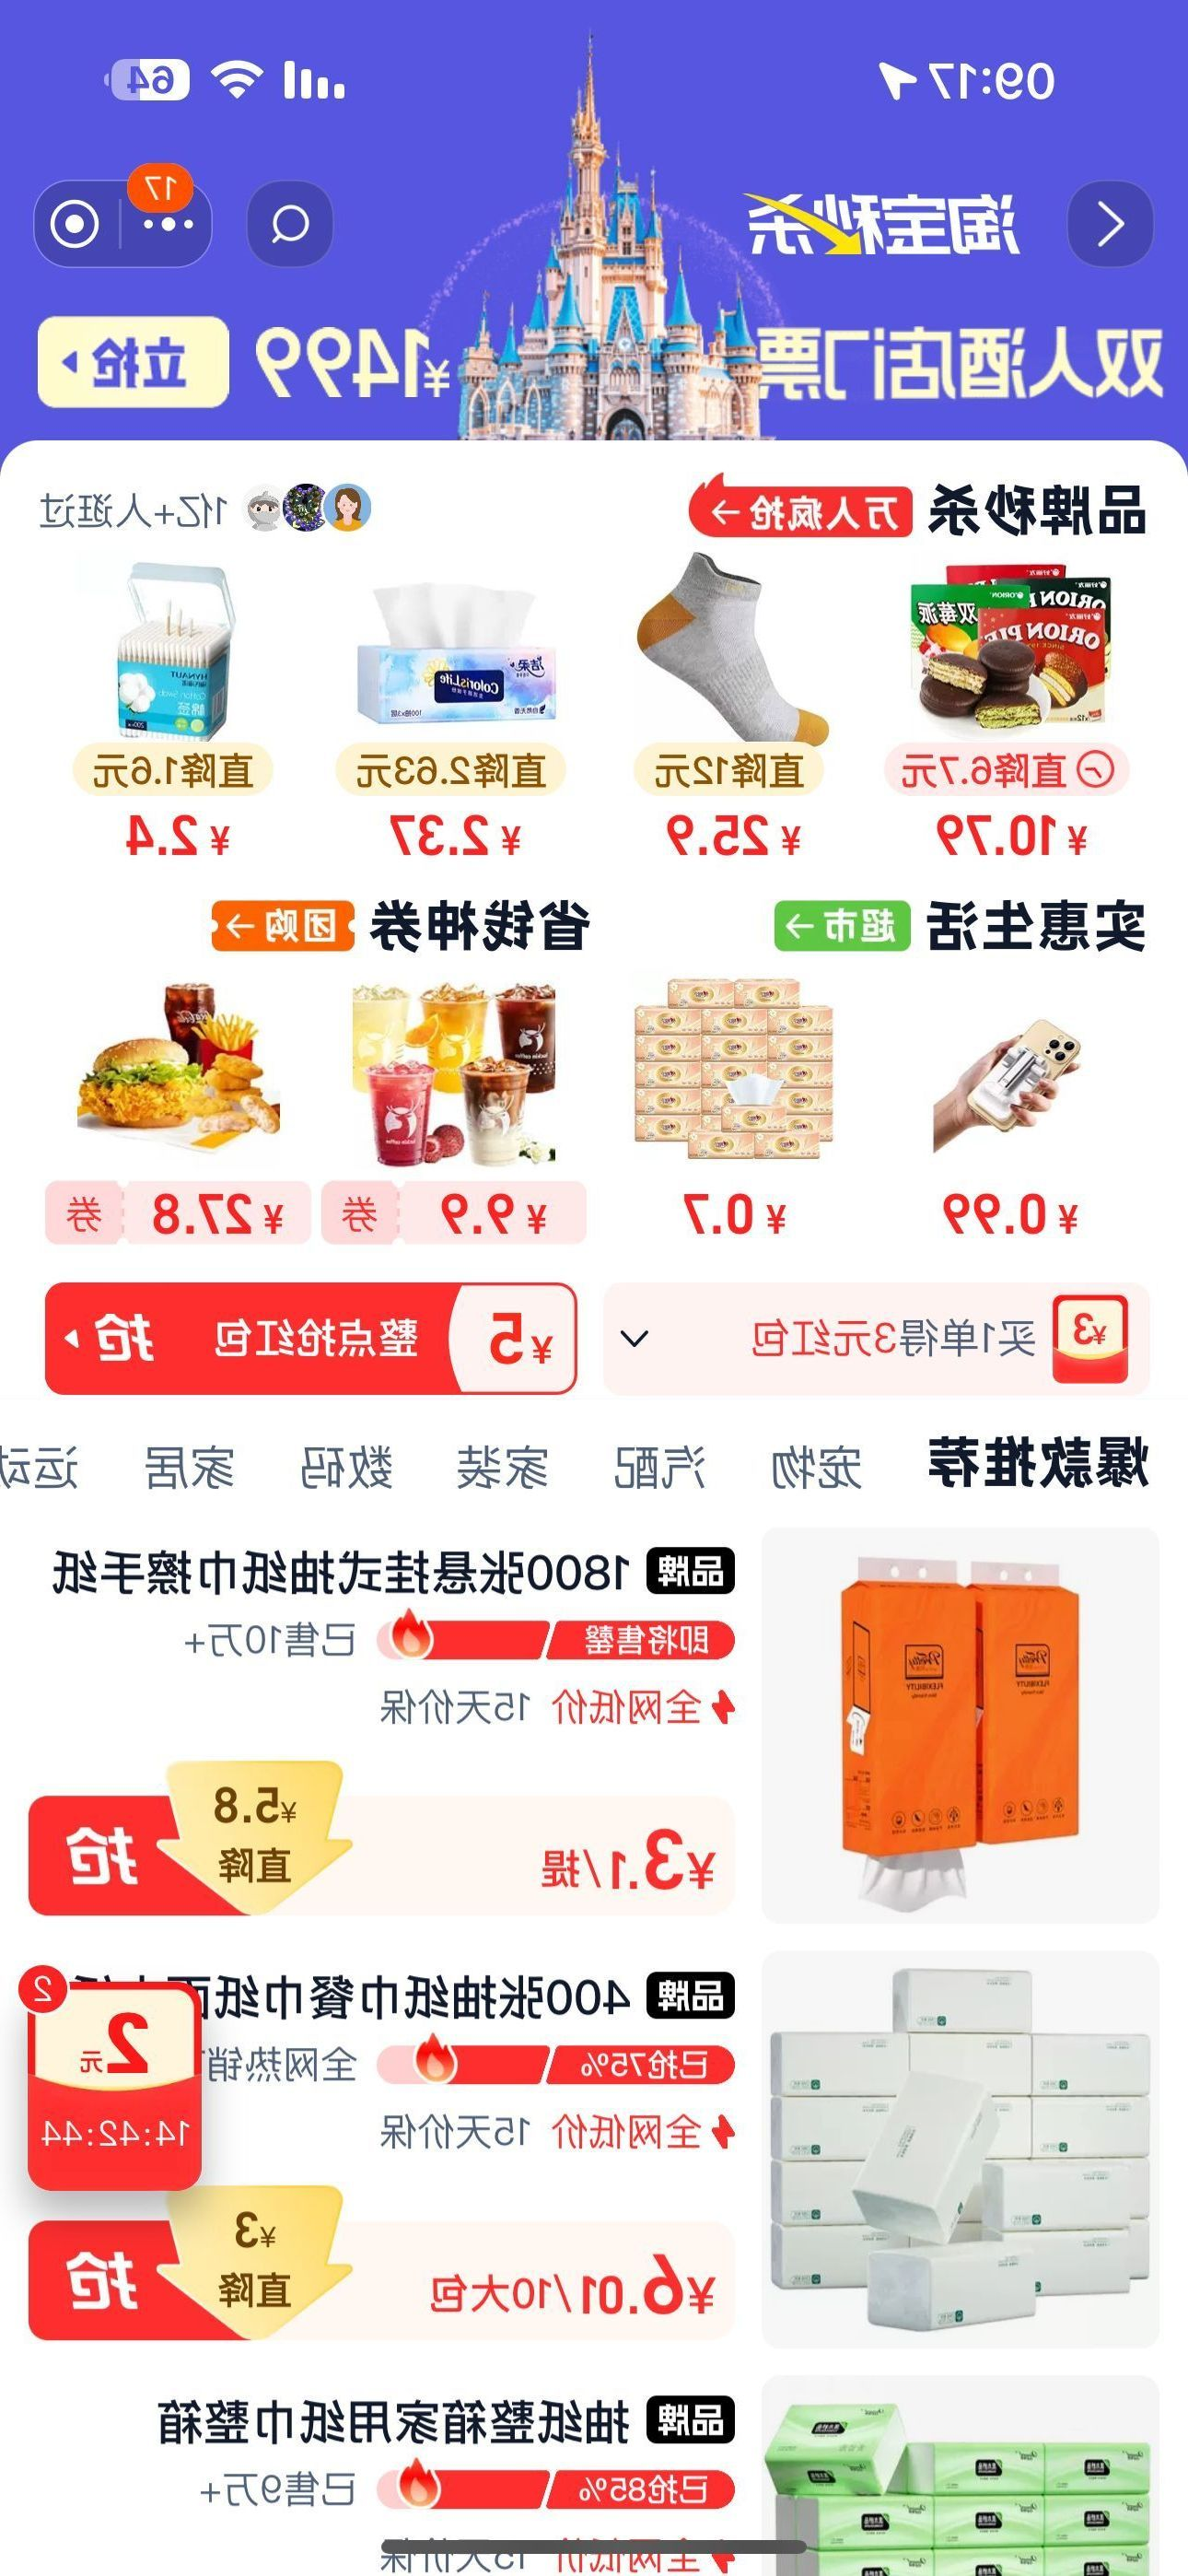item: (5, 1520, 1170, 1940), (3, 1952, 1175, 2362)
op_bar: (3, 151, 1186, 314)
seckill: (26, 455, 1172, 877)
